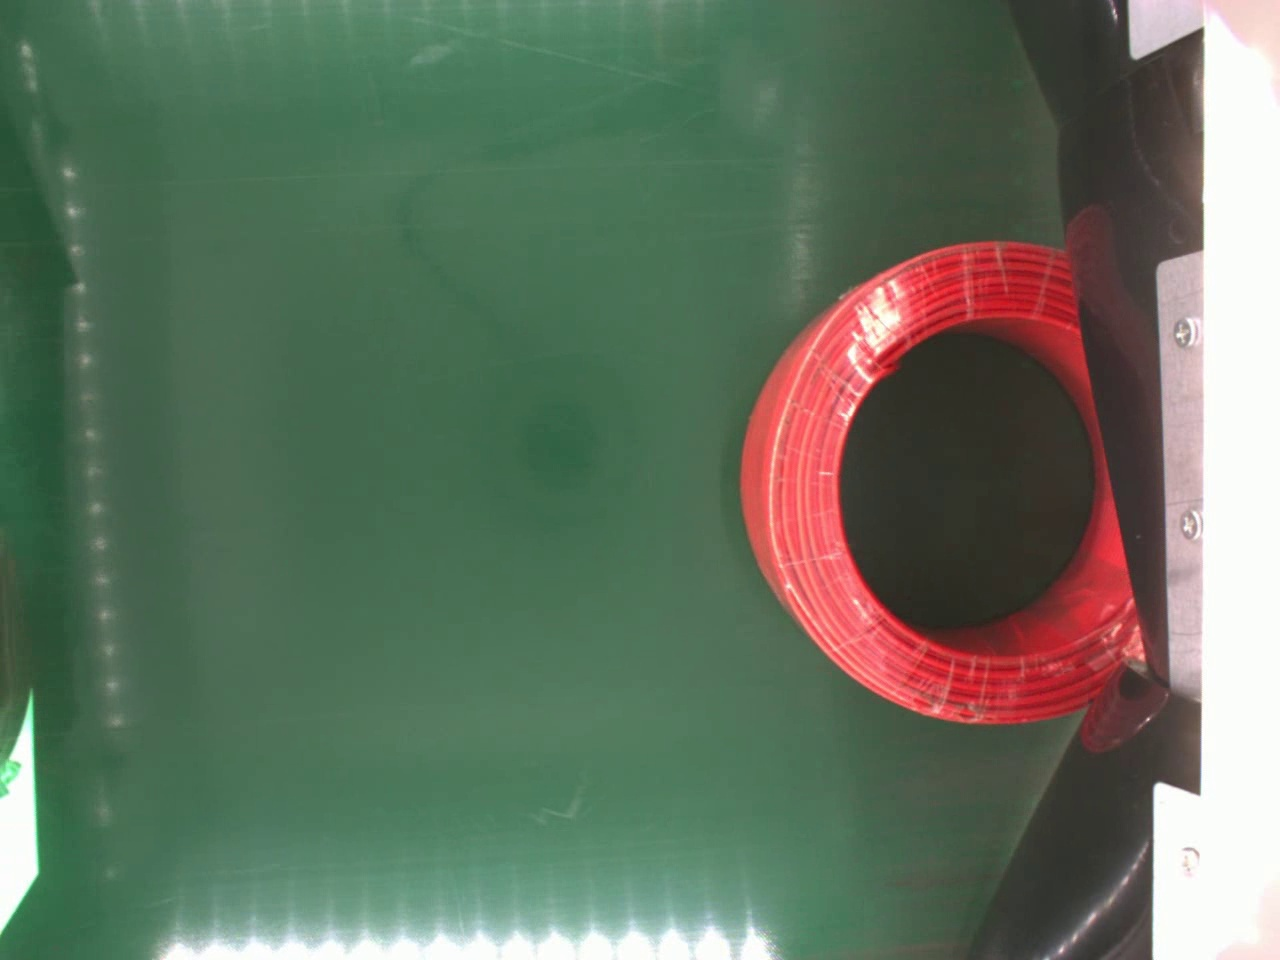red: (737, 237, 1147, 728)
